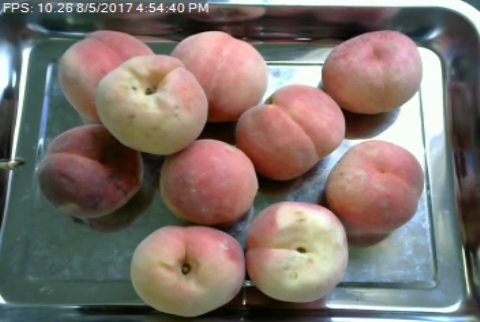Peach: (243, 202, 350, 303), (130, 224, 244, 318), (99, 54, 204, 155), (235, 85, 345, 181), (53, 28, 155, 129), (39, 122, 141, 217), (325, 138, 424, 235), (321, 28, 422, 116), (174, 30, 270, 121), (159, 139, 258, 226)
